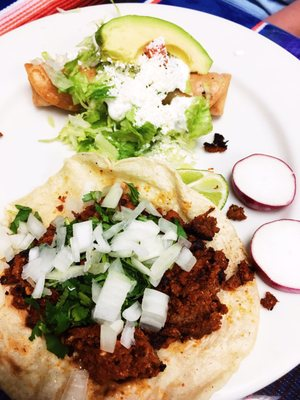soup: (0, 149, 258, 400)
